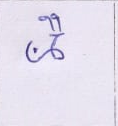au_matra: (38, 14, 69, 57)
